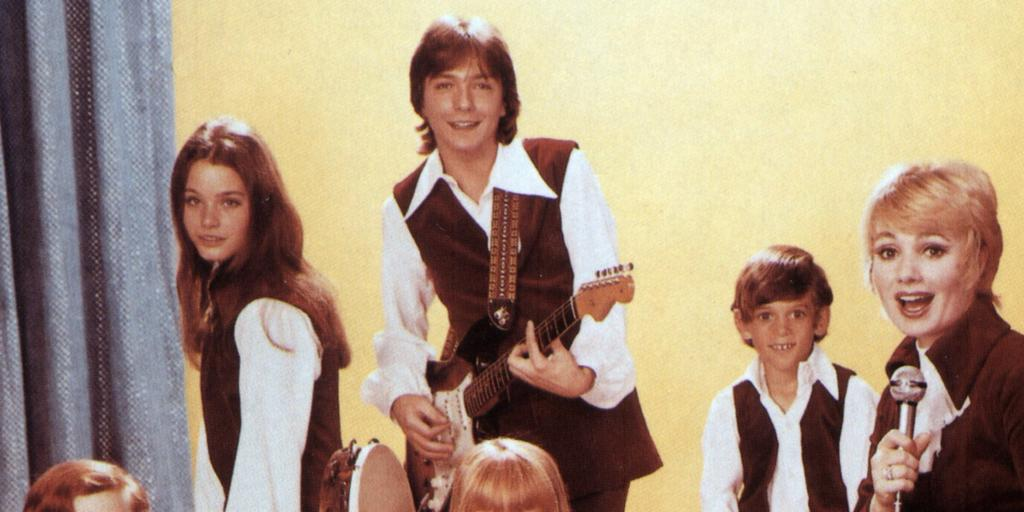face: (872, 200, 978, 334), (424, 44, 502, 152), (180, 160, 252, 264), (750, 272, 816, 366)
